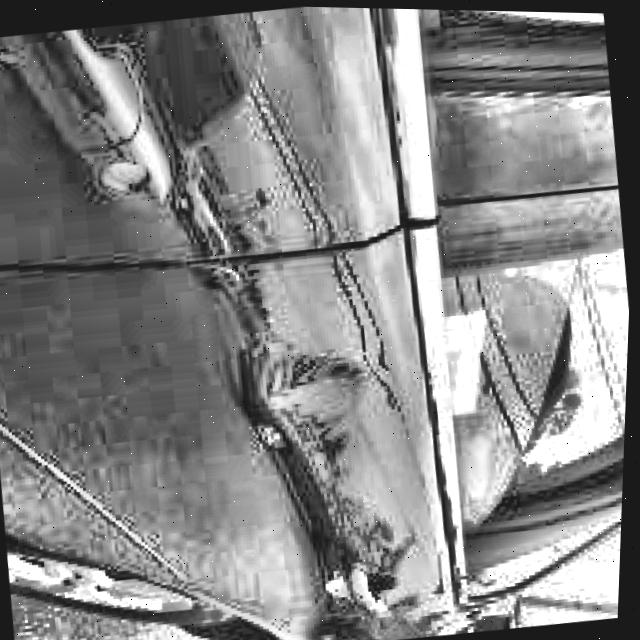door_dent: (246, 345, 382, 447)
